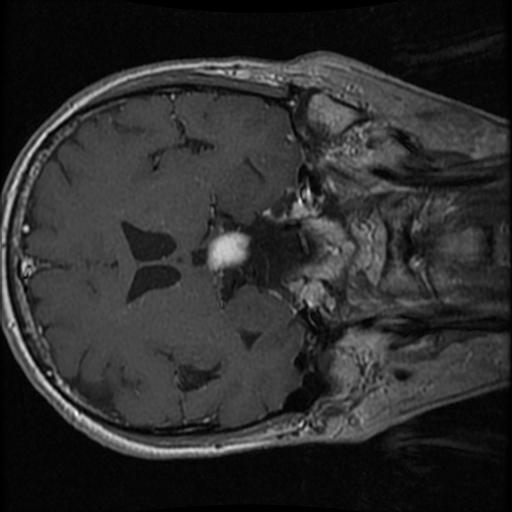meningioma: (204, 231, 250, 271)
